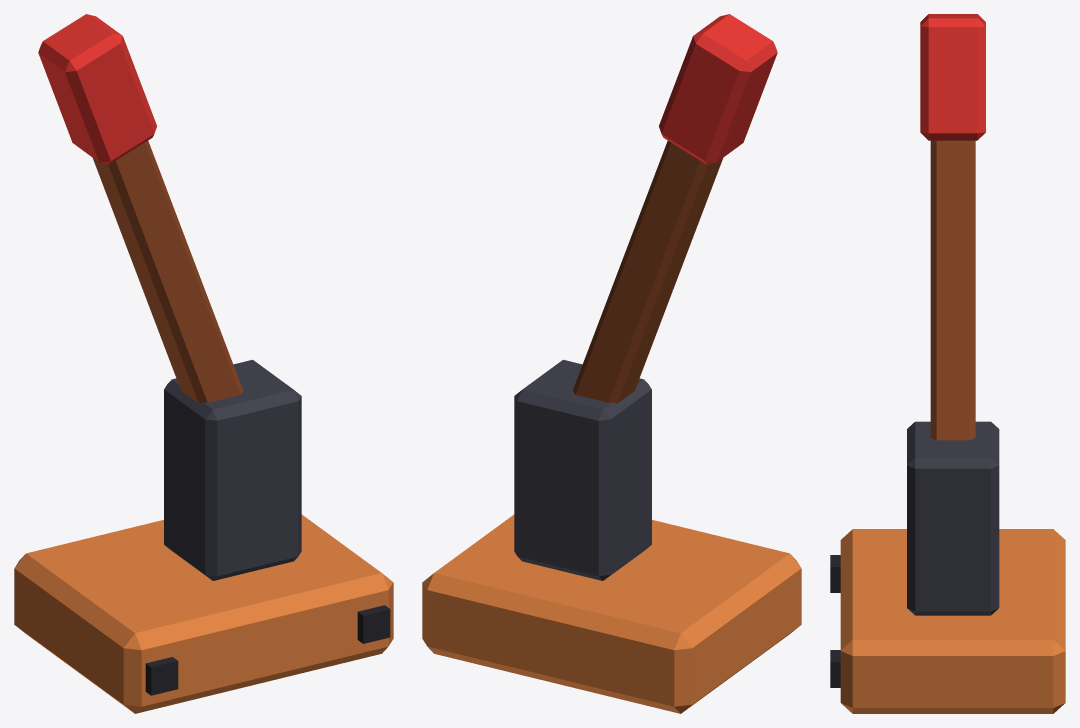
The model's file is OreLever.fbx.
The picture shows the model from 3 angles, left to right: view 1: azimuth 30°, elevation 25°; view 2: azimuth 150°, elevation 25°; view 3: azimuth 270°, elevation 25°; orthographic projection. The views are drawn at different scales.
Visible parts, largest first — view 1: Base, Bracket, Handle, Grip, Bolt.004, Bolt.005; view 2: Base, Bracket, Handle, Grip; view 3: Base, Bracket, Handle, Grip, Bolt.004, Bolt.005.
Part boxes in pixels (x1,y1,x2,y2): Base: [14, 514, 393, 713]; Bracket: [164, 359, 301, 580]; Handle: [93, 140, 243, 403]; Grip: [38, 14, 156, 164]; Bolt.004: [145, 657, 178, 695]; Bolt.005: [357, 605, 390, 643]; Base: [422, 514, 801, 713]; Bracket: [514, 359, 651, 580]; Handle: [572, 140, 722, 403]; Grip: [659, 14, 777, 164]; Base: [840, 529, 1065, 713]; Bracket: [907, 421, 999, 615]; Handle: [930, 140, 975, 440]; Grip: [920, 14, 985, 140]; Bolt.004: [830, 555, 840, 592]; Bolt.005: [830, 650, 840, 687].
Size of the model in its own units: 149 by 320 by 115.
